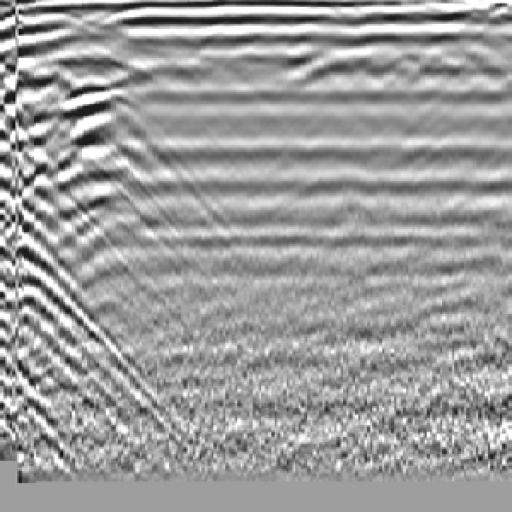metalic: (18, 46, 240, 282)
